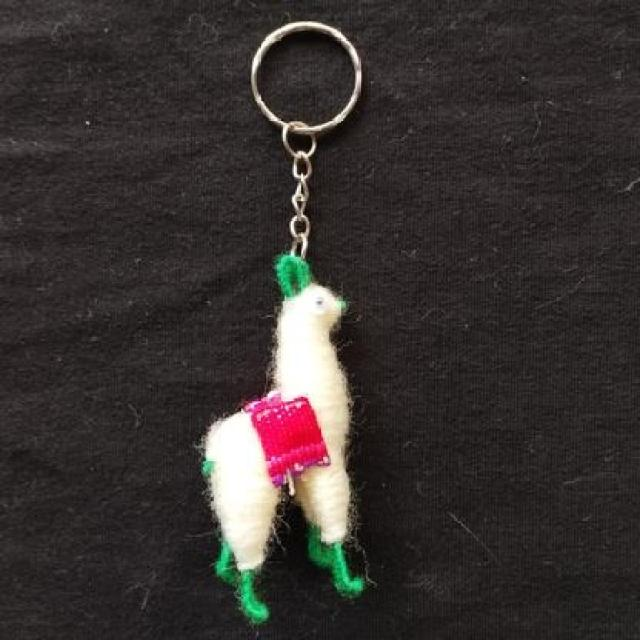Llavero: (197, 253, 369, 625)
